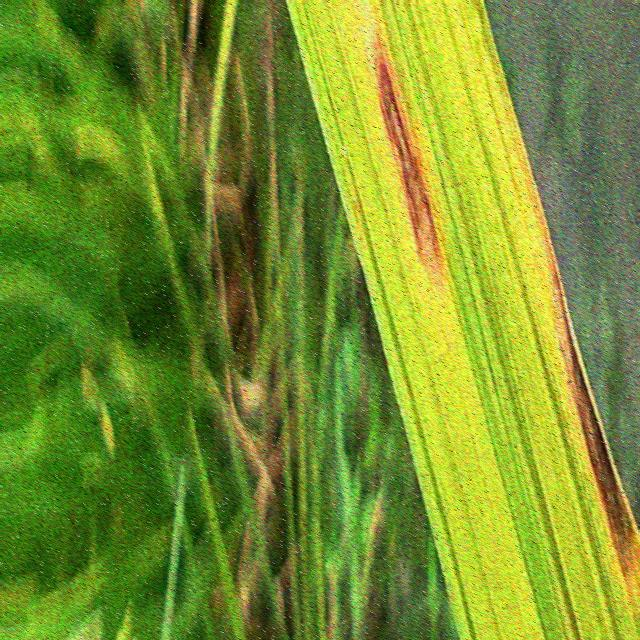NBS: (551, 254, 638, 593), (371, 27, 446, 293)
